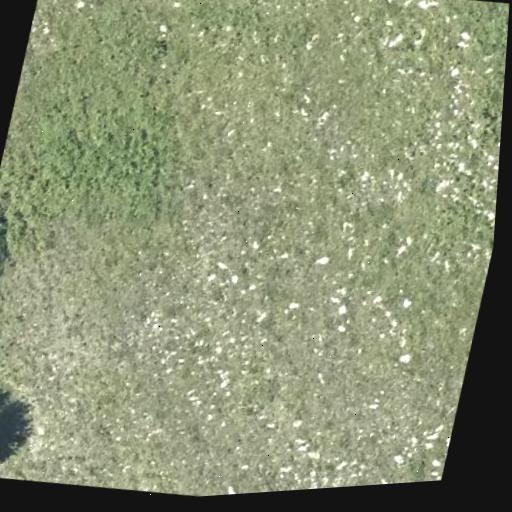tree-top: (0, 363, 13, 476)
